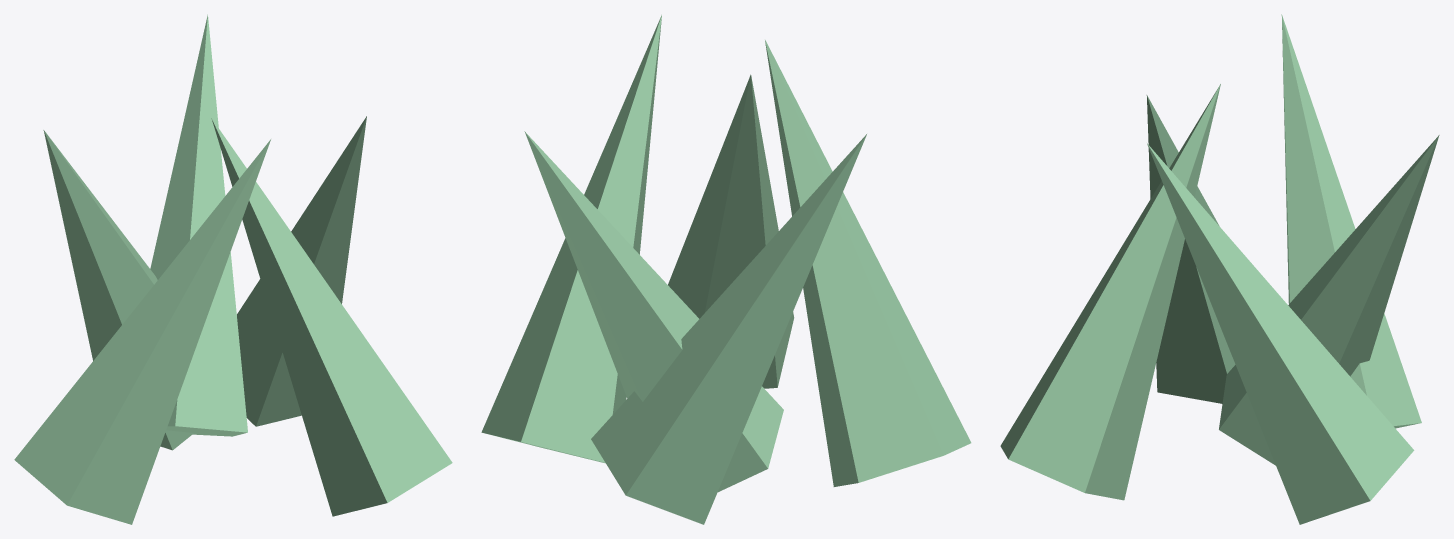
The model's file is fern.glb.
3 views of the same model, side by side, from view 1: azimuth 30°, elevation 25°; view 2: azimuth 150°, elevation 25°; view 3: azimuth 270°, elevation 25° (orthographic). The views are drawn at different scales.
Visible parts, largest first — view 1: fern; view 2: fern; view 3: fern.
Part boxes in pixels (x1,y1,x2,y2): fern: (14, 14, 452, 524); fern: (481, 15, 971, 524); fern: (1000, 14, 1439, 524).
Bounding box in the file's own units: 1.31 × 1.23 × 1.34.
